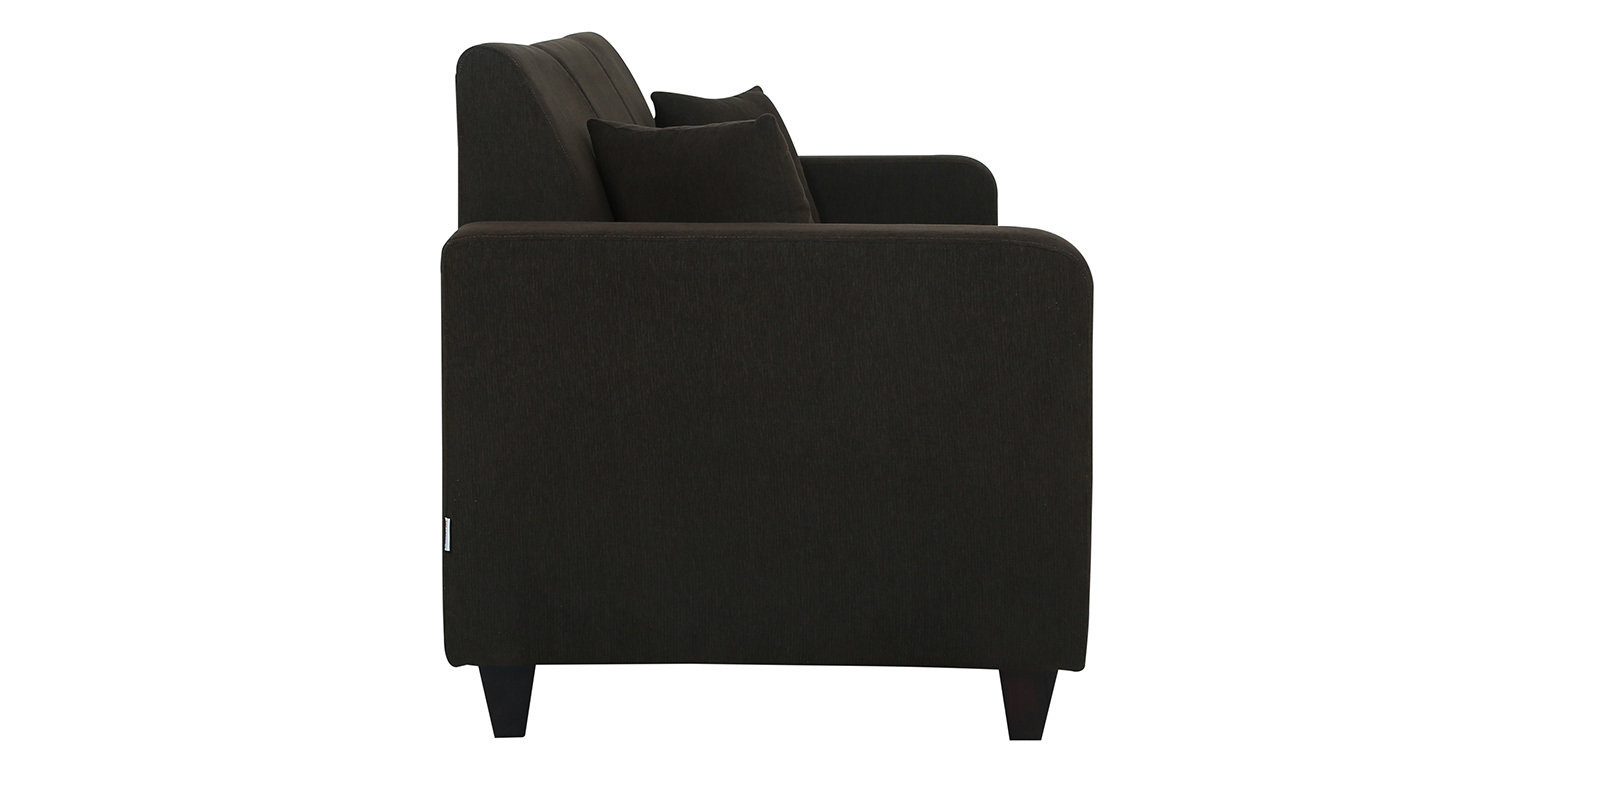Alba Three Seater Sofa in Chestnut Brown Colour by CasaCraft: (431, 36, 1104, 756)
